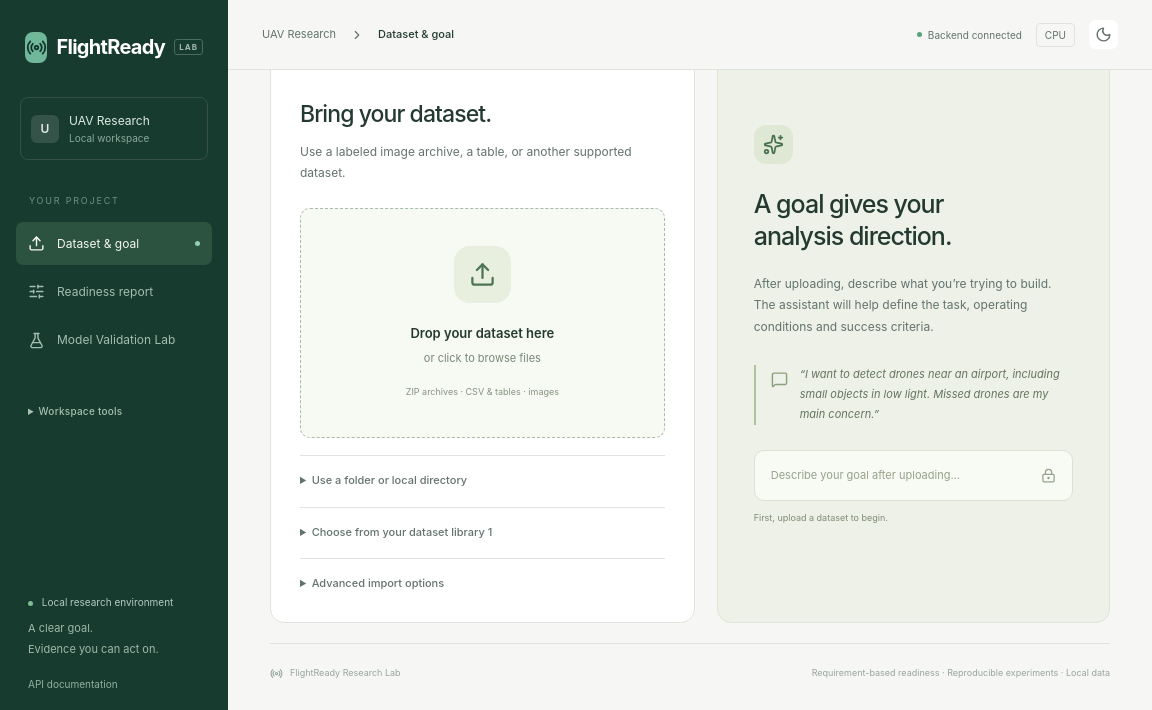
it: allows model import and prediction preview before a readiness report exists
(page scrolled)
Step 1. Click the heading "Choose from your dataset library 1" → (402, 532), box x1=312 y1=525 x2=492 y2=539
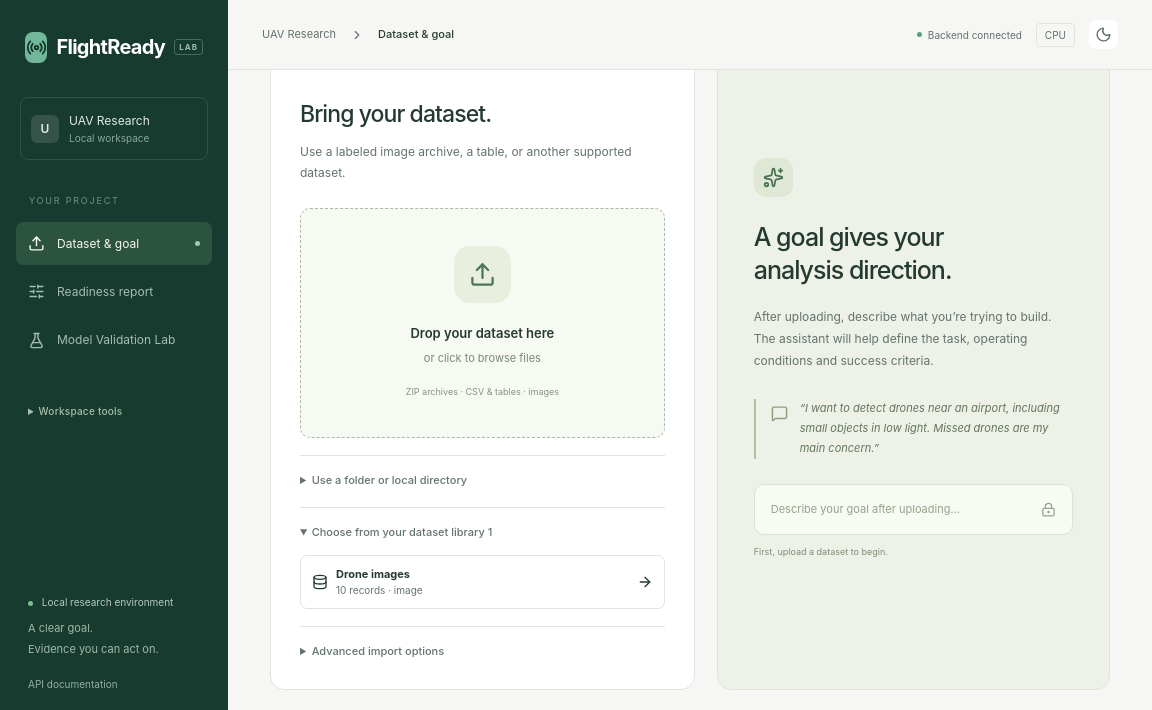
Step 2. Click the button "Drone images 10 records · image" → (373, 574), box x1=300 y1=555 x2=665 y2=609
(page scrolled)
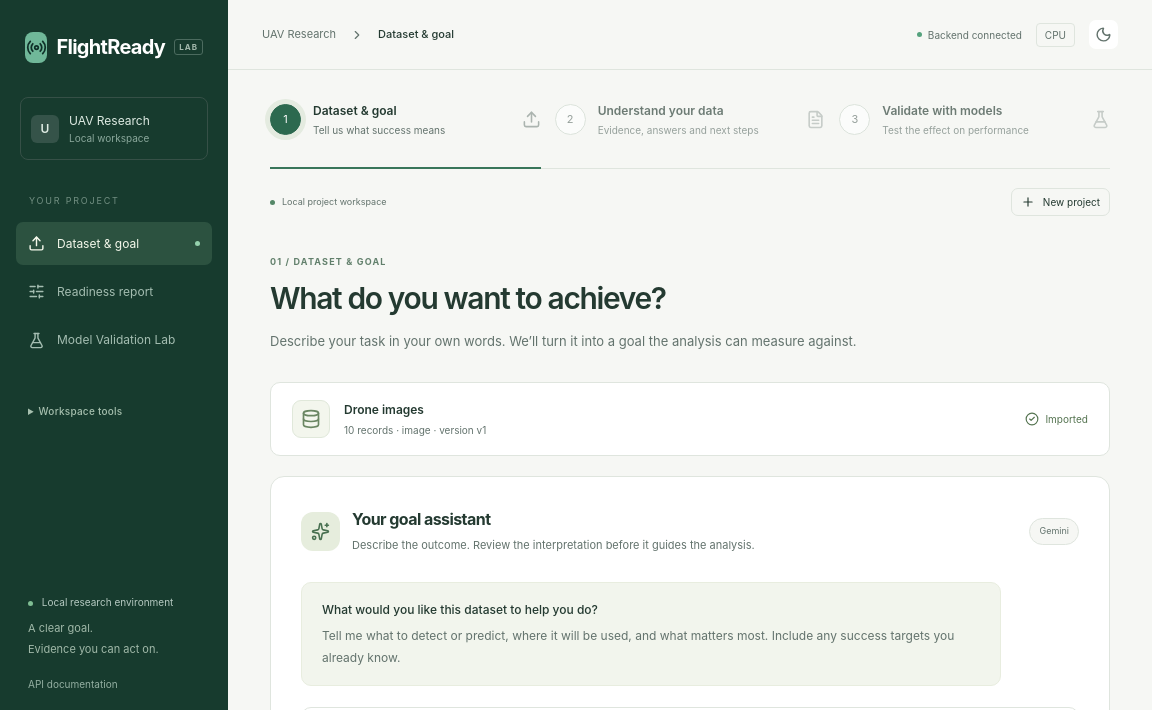
Step 3. Click the button "Model Validation Lab" → (114, 340), box x1=16 y1=318 x2=212 y2=362
(page scrolled)
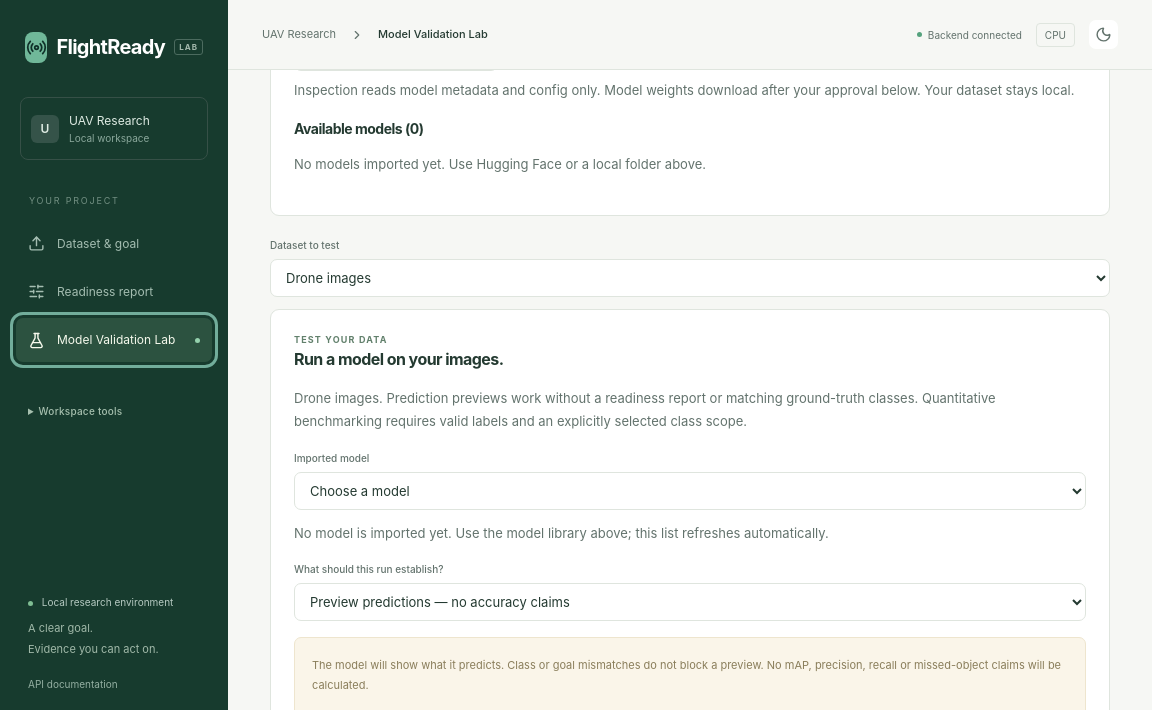
Expected: the heading "Run a model on your images." is shown, x1=294 y1=350 x2=504 y2=370
